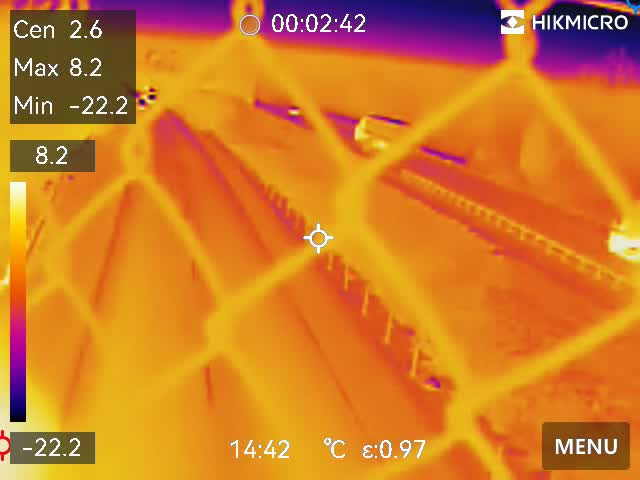heavyTruck: (352, 111, 419, 156)
vehicle: (284, 104, 301, 116)
